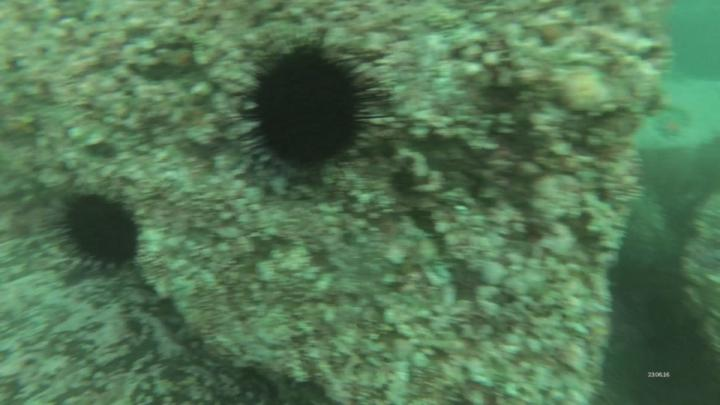echinus: (245, 42, 365, 176), (65, 190, 141, 272)
